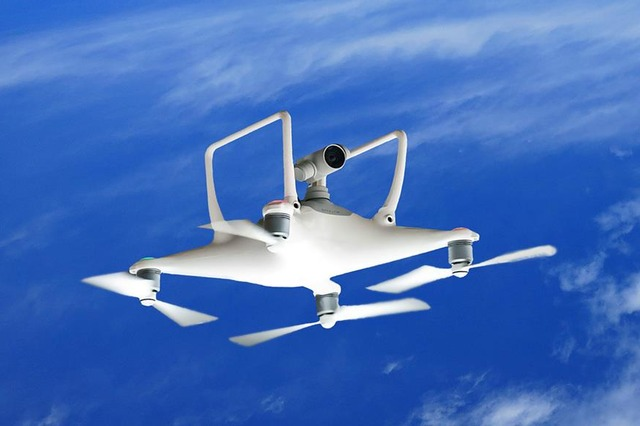drone: (81, 109, 557, 348)
